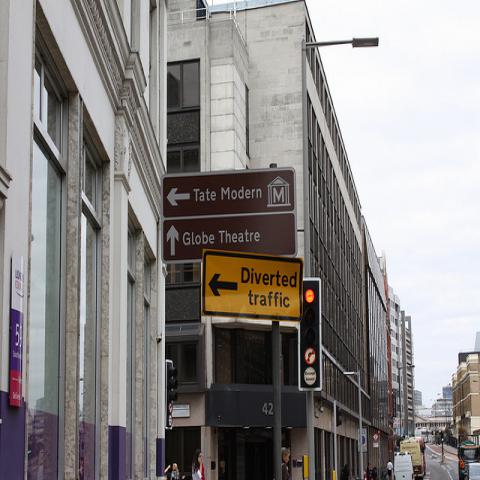bus: (400, 437, 426, 478)
car: (464, 449, 476, 460)
truck: (458, 438, 480, 479), (393, 453, 417, 479)
